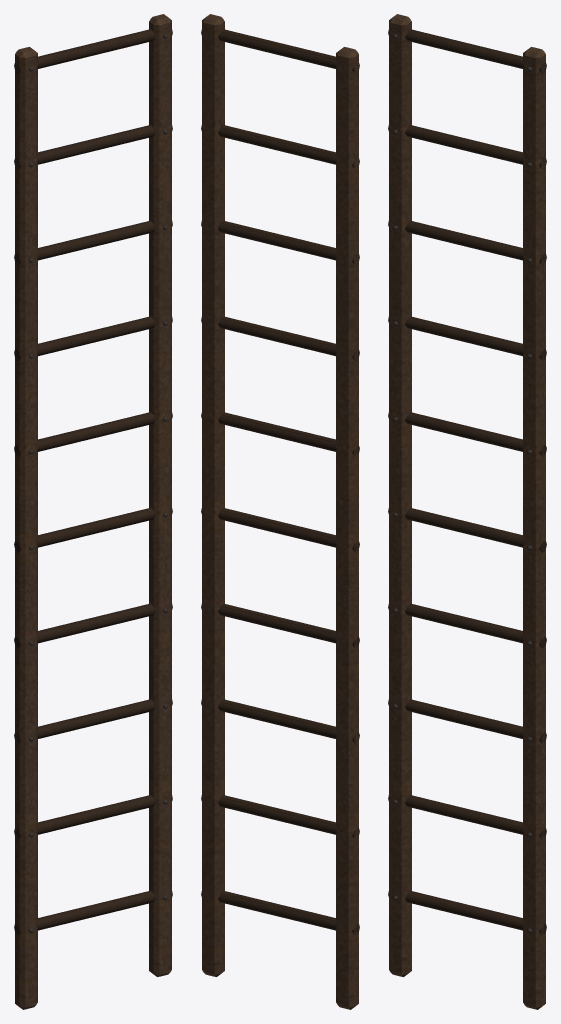
Rendered from ladder.glb.
The picture shows the model from 3 angles, left to right: view 1: azimuth 30°, elevation 25°; view 2: azimuth 150°, elevation 25°; view 3: azimuth 330°, elevation 25°; orthographic projection.
Visible parts, largest first — view 1: ladder; view 2: ladder; view 3: ladder.
Boxes of the visible parts, x1,y1,x2,y2 form: ladder: (14,14,172,1009); ladder: (201,14,359,1009); ladder: (388,14,546,1009).
Bounding box in the file's own units: 0.5 × 3 × 0.0588.
1 material, 1 textured.
